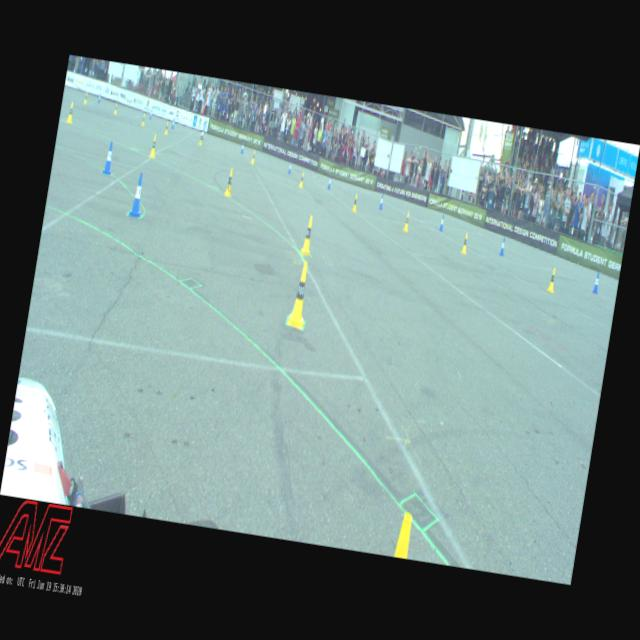blue_cone: (128, 172, 148, 218), (102, 140, 116, 174), (592, 272, 601, 294), (438, 214, 446, 232), (499, 238, 506, 255), (379, 193, 385, 210), (287, 160, 293, 174), (327, 175, 332, 190), (240, 142, 244, 154), (172, 118, 176, 129), (98, 94, 101, 103), (202, 128, 204, 140), (150, 110, 152, 119)
yellow_cone: (287, 260, 313, 330), (300, 214, 316, 256), (546, 267, 558, 293), (224, 168, 235, 196), (148, 134, 159, 159), (66, 102, 76, 125), (461, 232, 470, 254), (403, 211, 411, 232), (352, 193, 359, 212), (298, 172, 306, 188), (250, 150, 256, 164), (164, 121, 170, 135), (199, 132, 204, 146), (114, 102, 118, 116), (84, 92, 88, 104), (142, 114, 146, 126)
